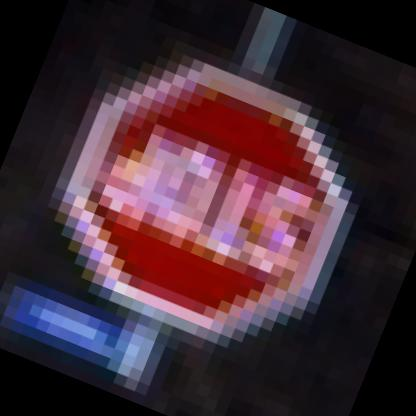stop: (20, 16, 377, 387)
